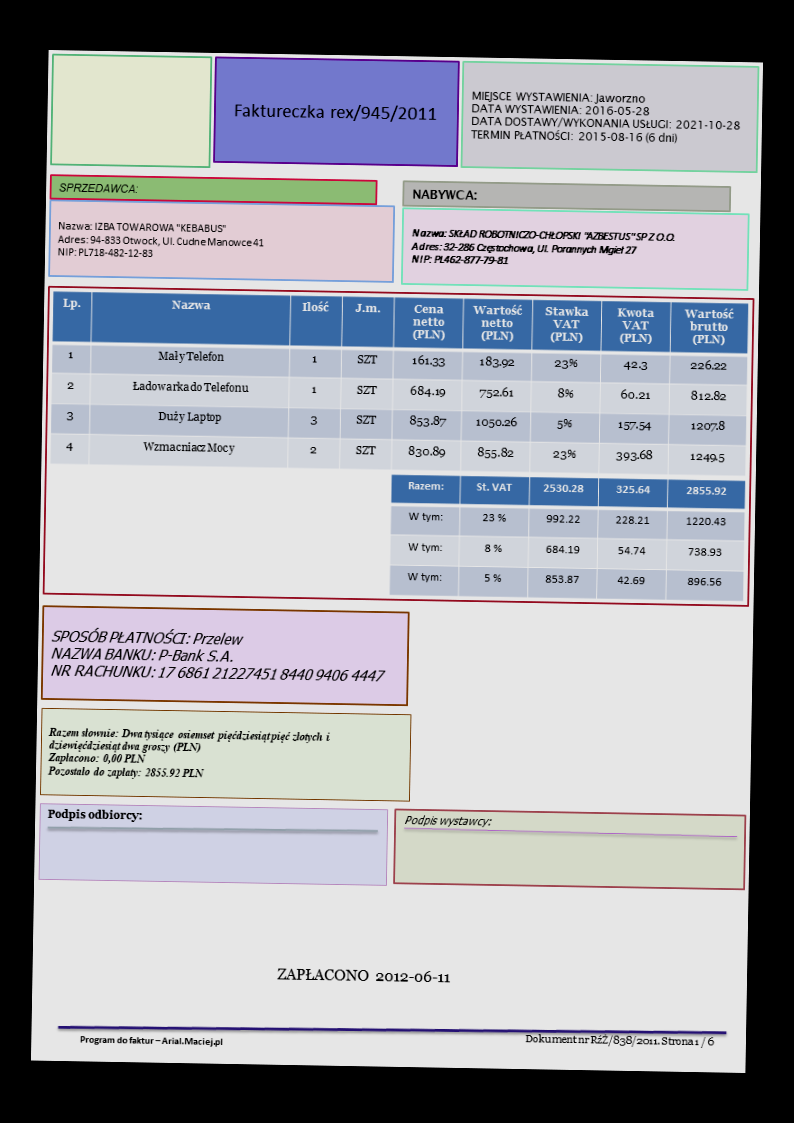Table: (49, 289, 749, 478), (388, 473, 747, 603)
TextBox: (49, 627, 387, 687), (45, 724, 332, 783), (468, 88, 743, 148), (408, 225, 676, 271), (54, 218, 266, 262), (230, 100, 437, 126), (524, 1030, 716, 1052), (273, 966, 452, 986), (77, 1033, 225, 1048), (45, 806, 145, 824), (402, 812, 492, 830), (56, 179, 140, 197), (410, 185, 478, 203)
